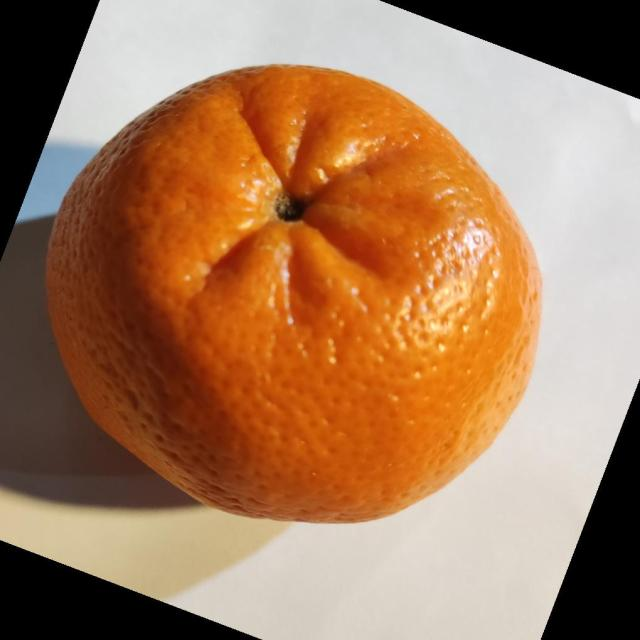fresh orange: (44, 62, 543, 525)
